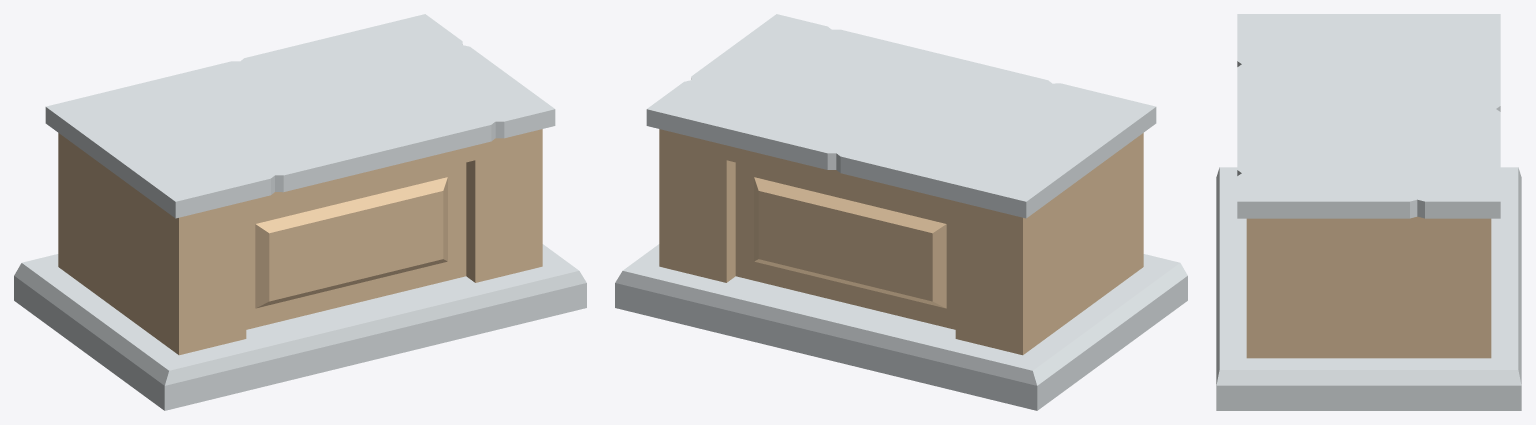
File: altarWood.glb
The picture shows the model from 3 angles, left to right: view 1: azimuth 30°, elevation 25°; view 2: azimuth 150°, elevation 25°; view 3: azimuth 270°, elevation 25°; orthographic projection.
Parts seen in each view (by area): view 1: altarWood(Clone); view 2: altarWood(Clone); view 3: altarWood(Clone).
Part boxes in pixels (x1,y1,x2,y2): altarWood(Clone): [14, 14, 586, 410]; altarWood(Clone): [615, 14, 1187, 410]; altarWood(Clone): [1216, 14, 1521, 410].
Size of the model in its own units: 1.06 by 0.47 by 0.6532.
